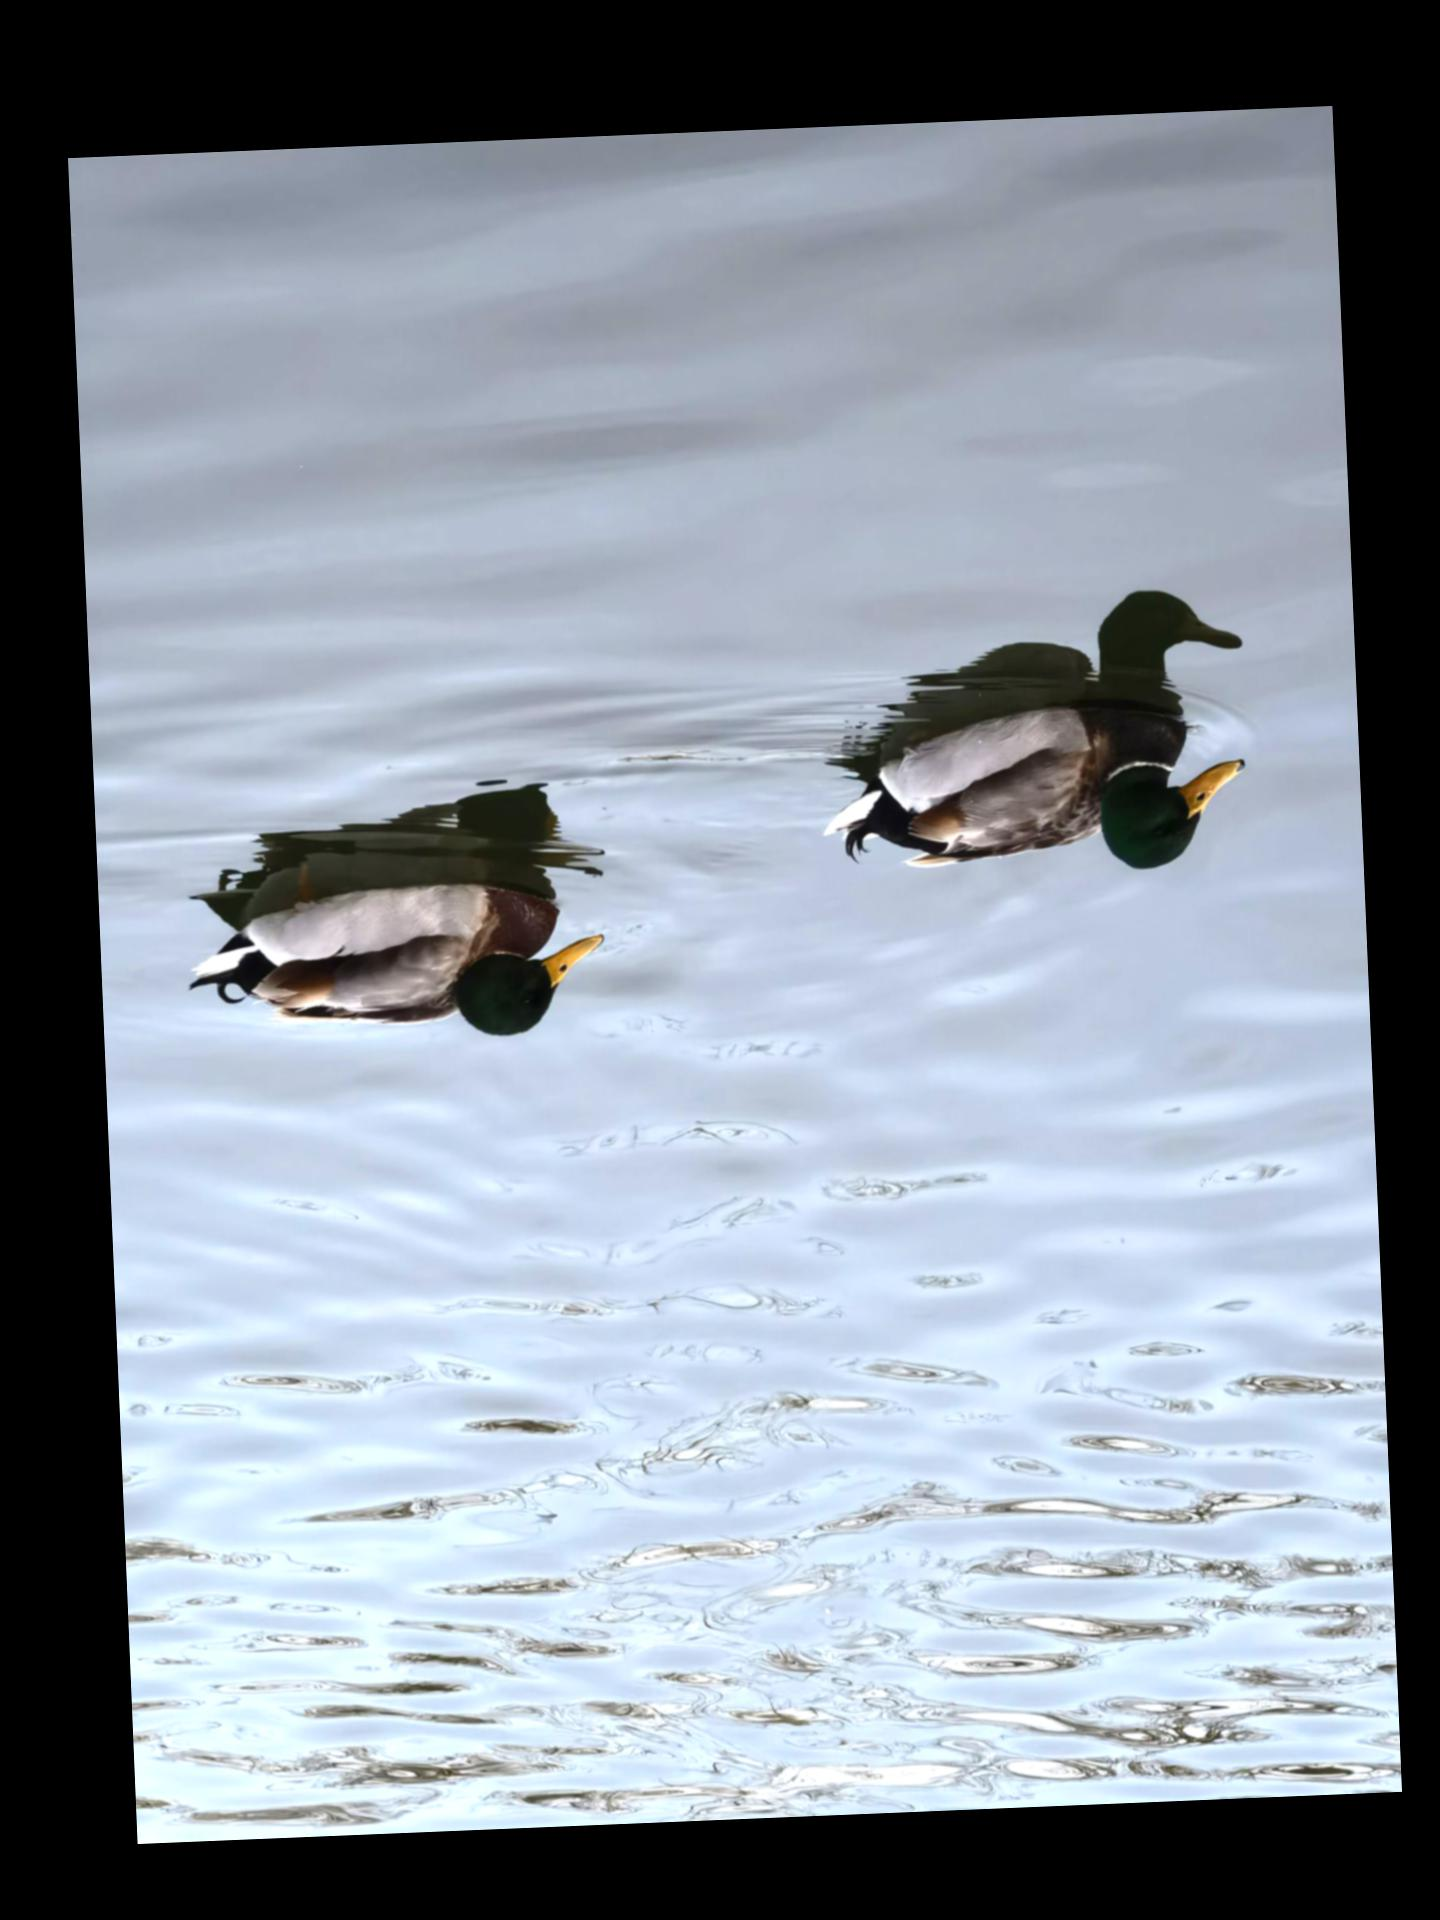duck: (154, 804, 614, 1075), (785, 688, 1266, 912)
